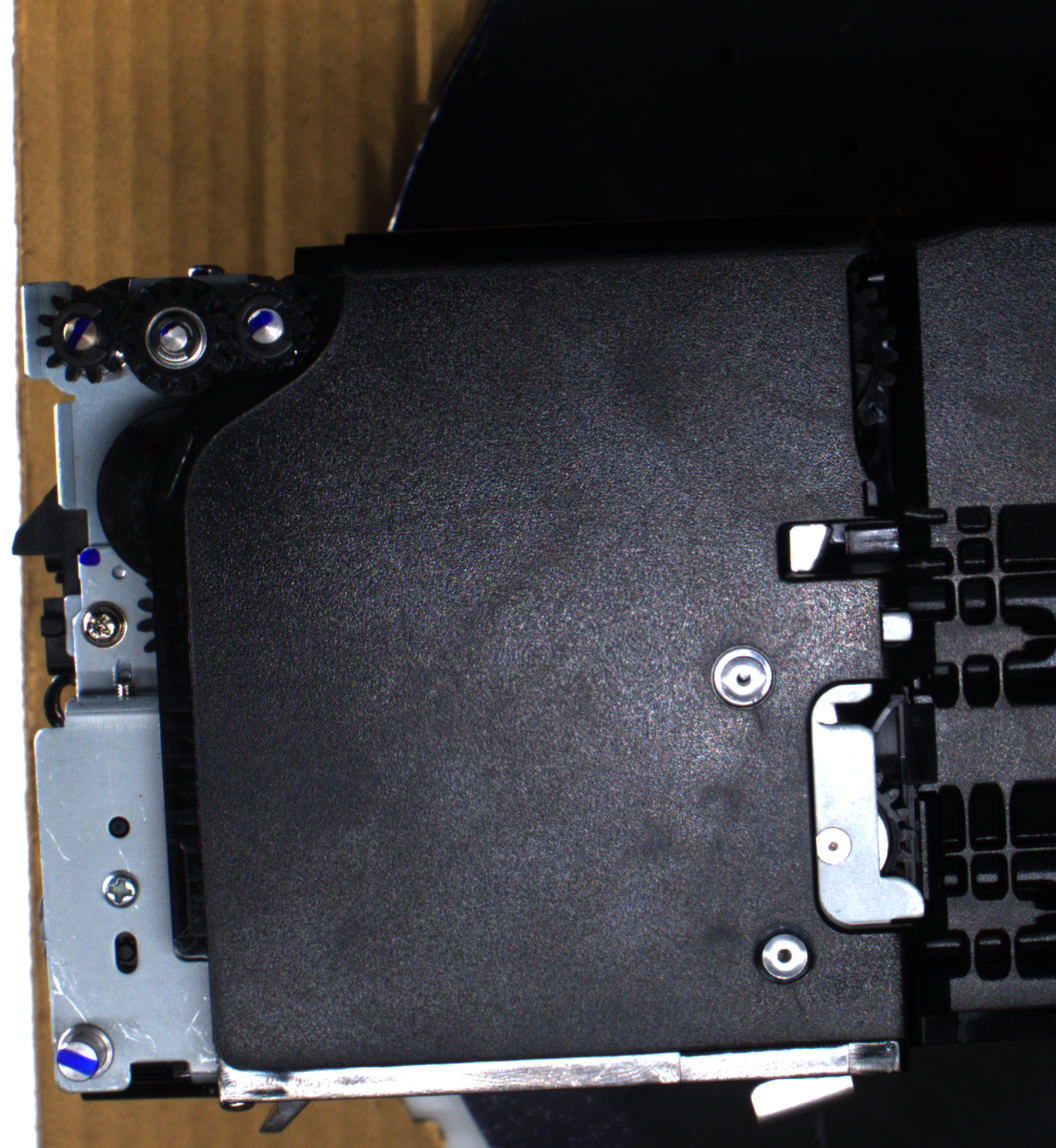centre_pin_presence: (743, 1063, 860, 1125)
centre_plate_presence: (803, 673, 936, 939)
centre_screw_presence: (707, 638, 780, 715), (748, 917, 819, 990)
gear1_presence: (35, 282, 135, 386)
gear2_presence: (118, 276, 235, 397)
gear3_presence: (216, 273, 315, 380)
side_screw_presence: (76, 598, 129, 649), (97, 868, 142, 909)
slanting_pin_presence: (52, 1020, 122, 1089)
